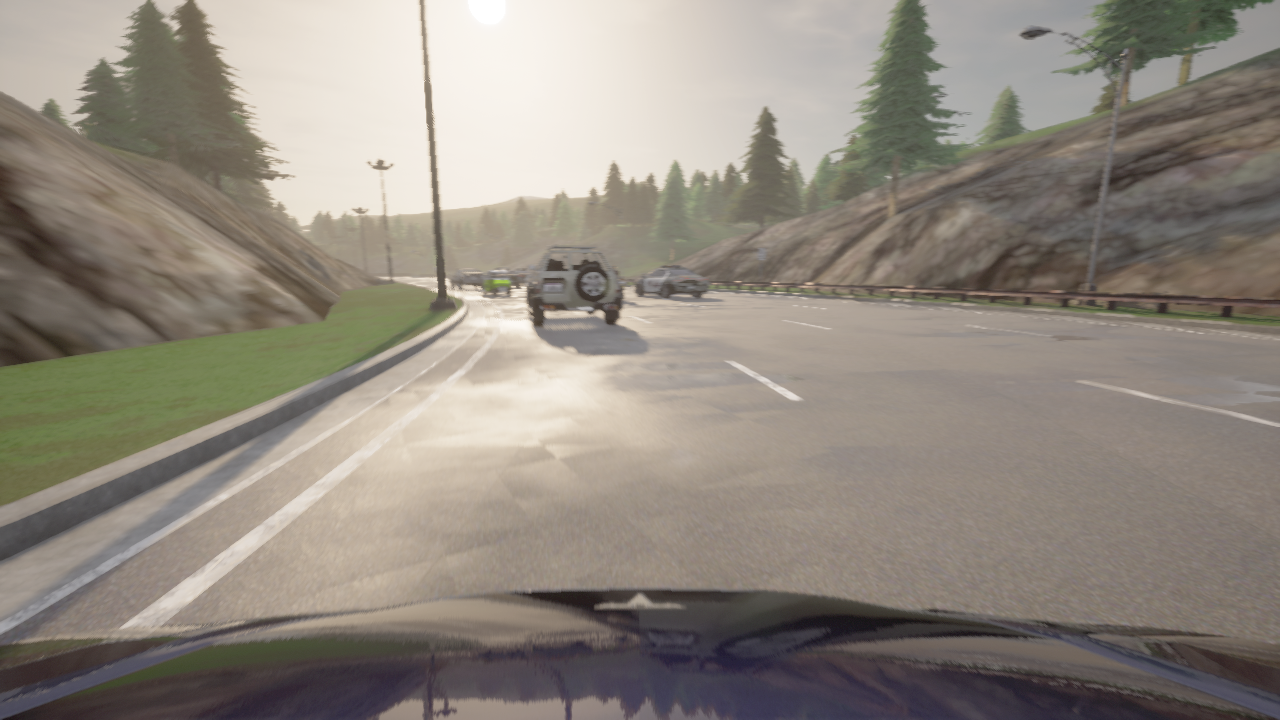cyclist: (0, 588, 1279, 719), (526, 245, 621, 327), (634, 266, 708, 298), (450, 268, 483, 290), (482, 270, 510, 295), (497, 269, 520, 287), (513, 269, 530, 284), (617, 278, 625, 299)
